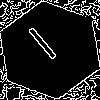I: (25, 25, 67, 69)
